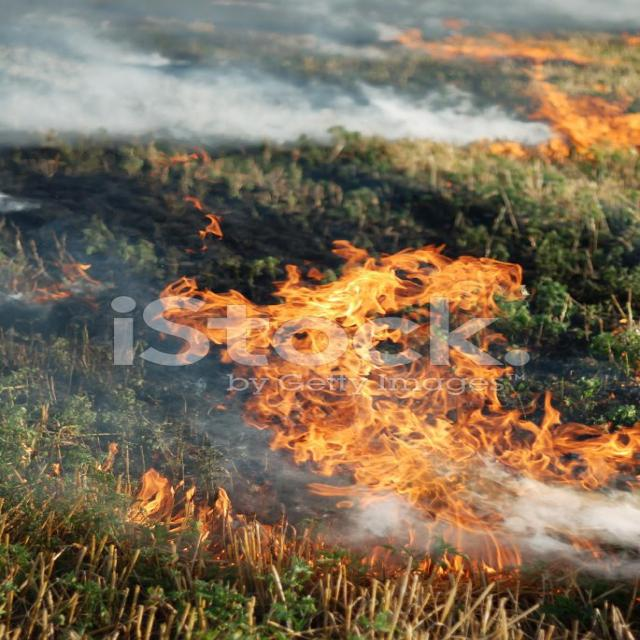fire: (125, 243, 638, 573), (380, 20, 638, 156)
smoke: (0, 2, 440, 165)
